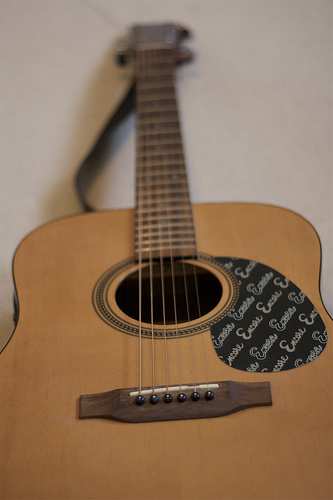guitar: (1, 19, 333, 500)
